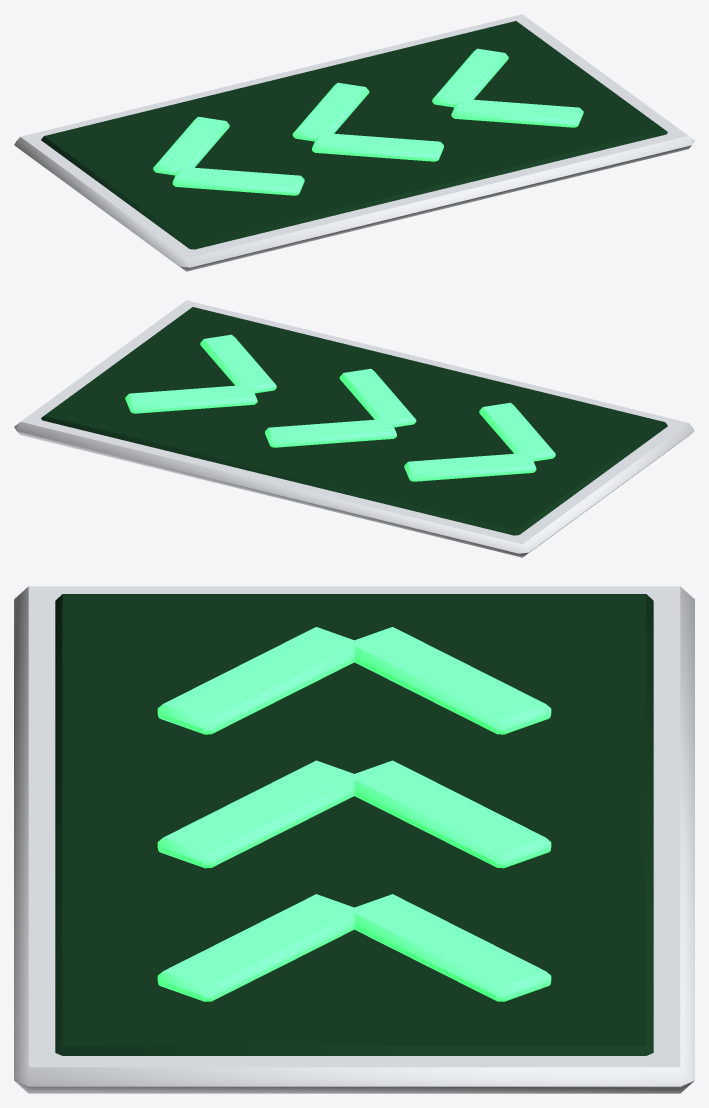
Rendered from bl_pad_go.glb.
The picture shows the model from 3 angles, top to bottom: view 1: azimuth 30°, elevation 25°; view 2: azimuth 150°, elevation 25°; view 3: azimuth 270°, elevation 25°; orthographic projection. The views are drawn at different scales.
Visible parts, largest first — view 1: pad_go; view 2: pad_go; view 3: pad_go.
Boxes of the visible parts, box(x1,y1,x2,y2) form: pad_go: box(14, 14, 694, 271); pad_go: box(14, 300, 694, 557); pad_go: box(14, 586, 694, 1093).
Bounding box in the file's own units: 2.4 × 0.105 × 1.4.
